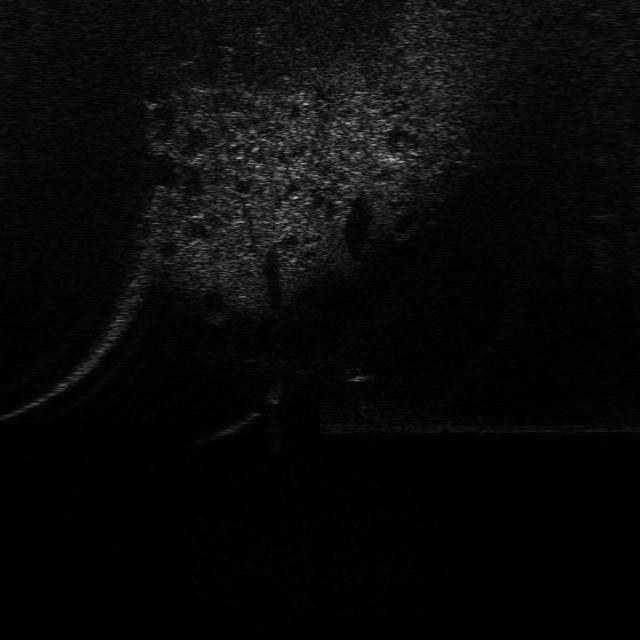cube: (338, 357, 386, 386)
cylinder: (258, 374, 288, 409)
